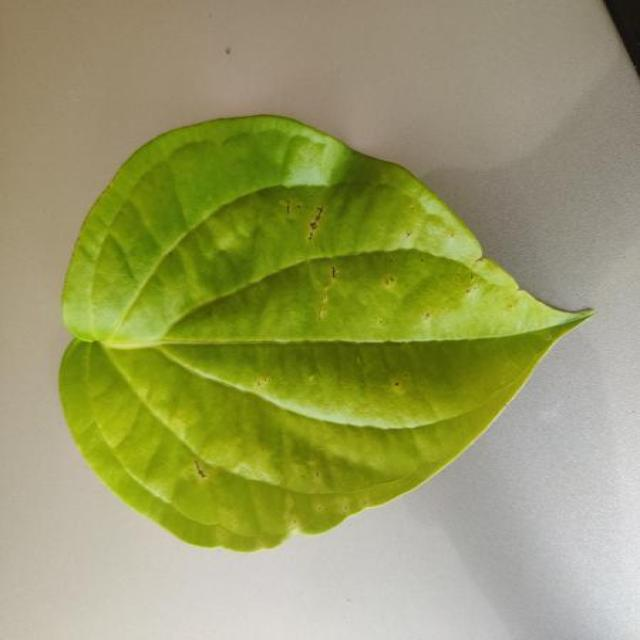betel: (60, 115, 590, 551)
